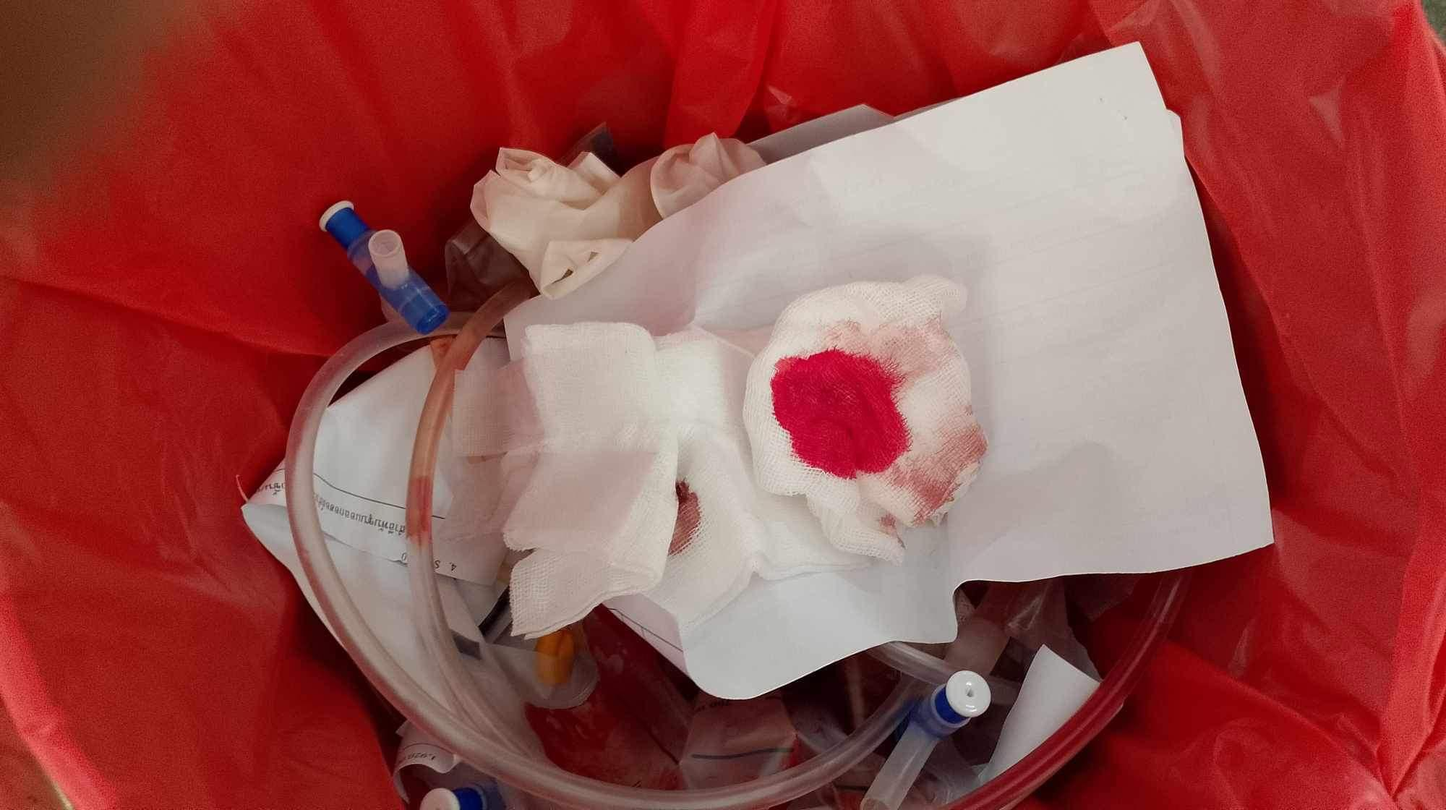General: (237, 40, 1276, 806)
Infectious: (741, 273, 988, 566)
Sharps: (857, 668, 991, 808), (317, 197, 450, 336)
